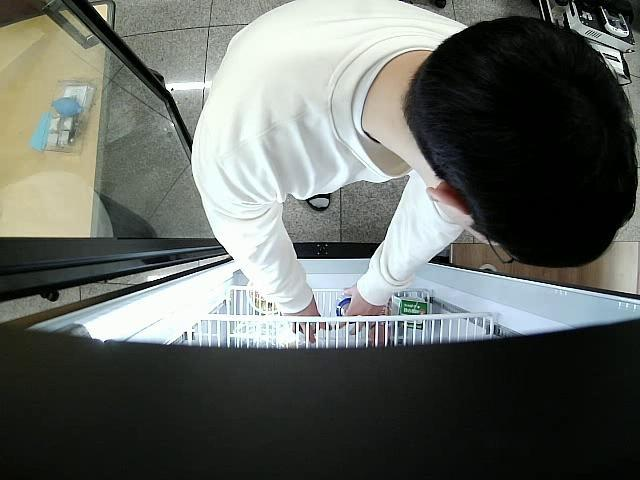13_pocariSweat: (336, 296, 351, 316)
